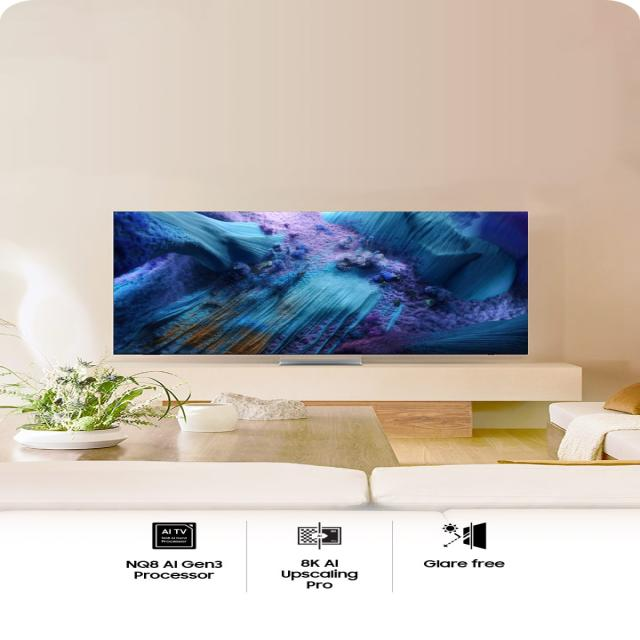electronics: (115, 212, 525, 355)
